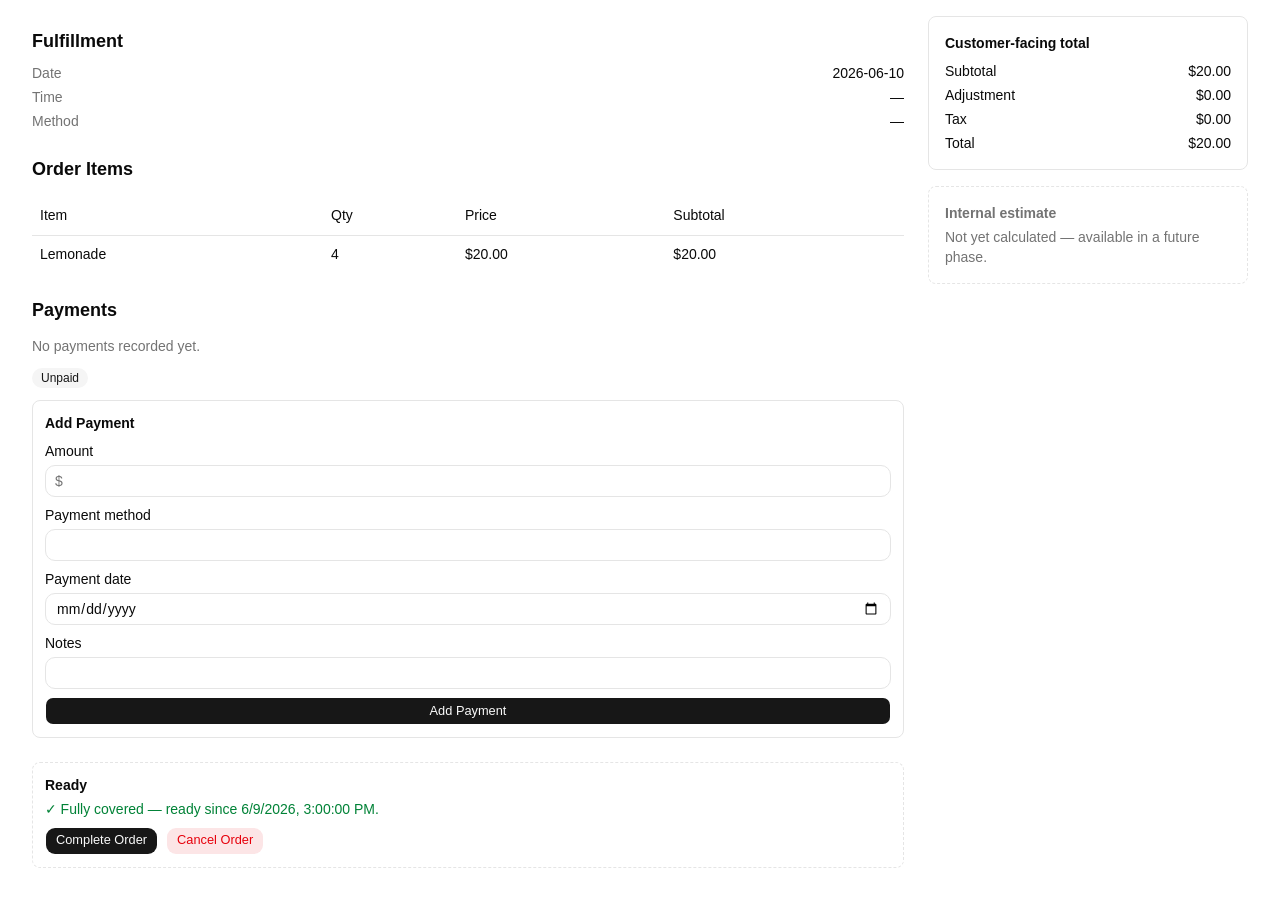
Scenario: Order Details — Complete Order › shows other structured rejections (production locked) as a readable alert
The image size is (1280, 900).
(page scrolled)
Step 1. Click the button "Complete Order" → [102, 840], box left=45, top=826, right=158, bottom=854
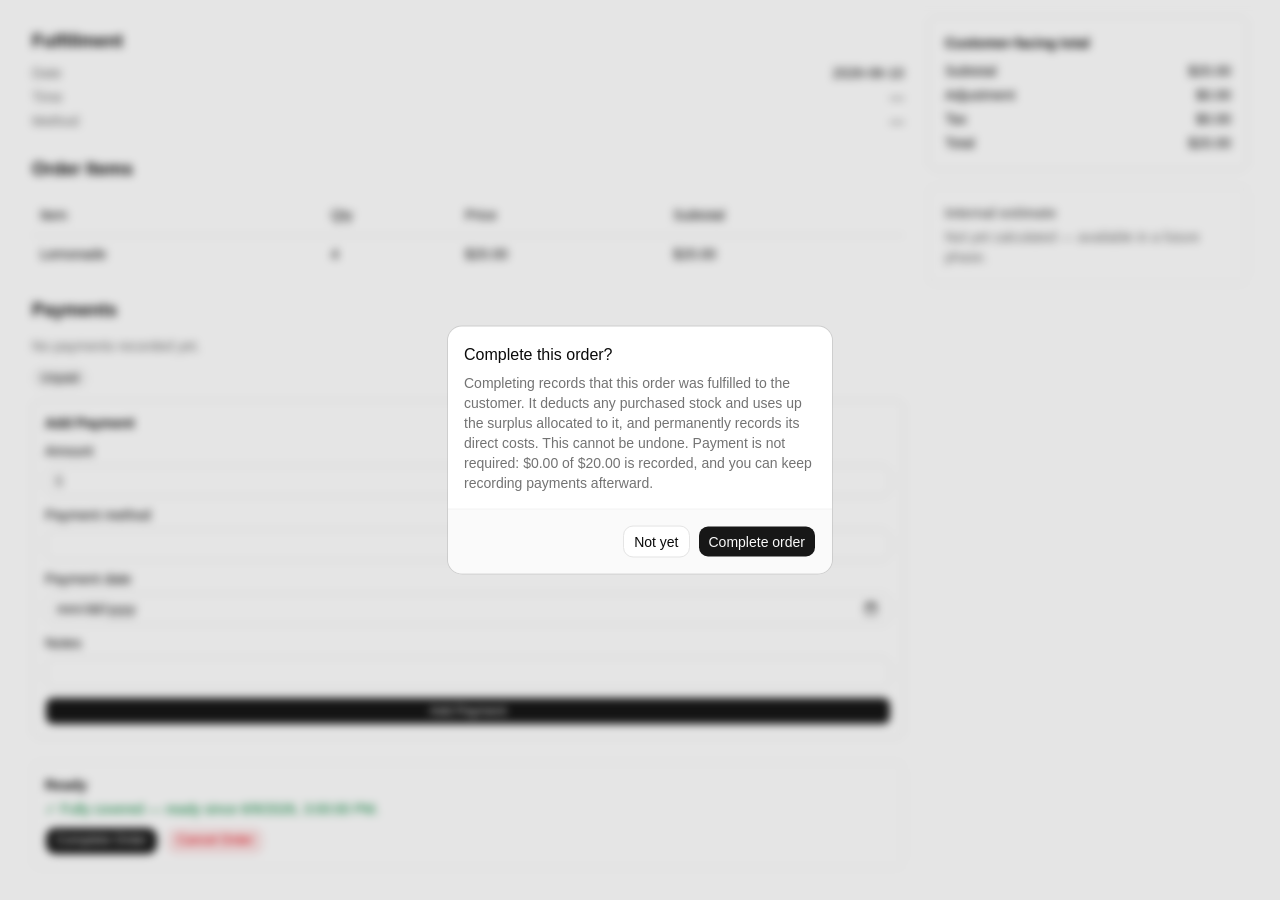
Step 2. Click the button "Complete order" → [757, 542], box left=698, top=526, right=816, bottom=558
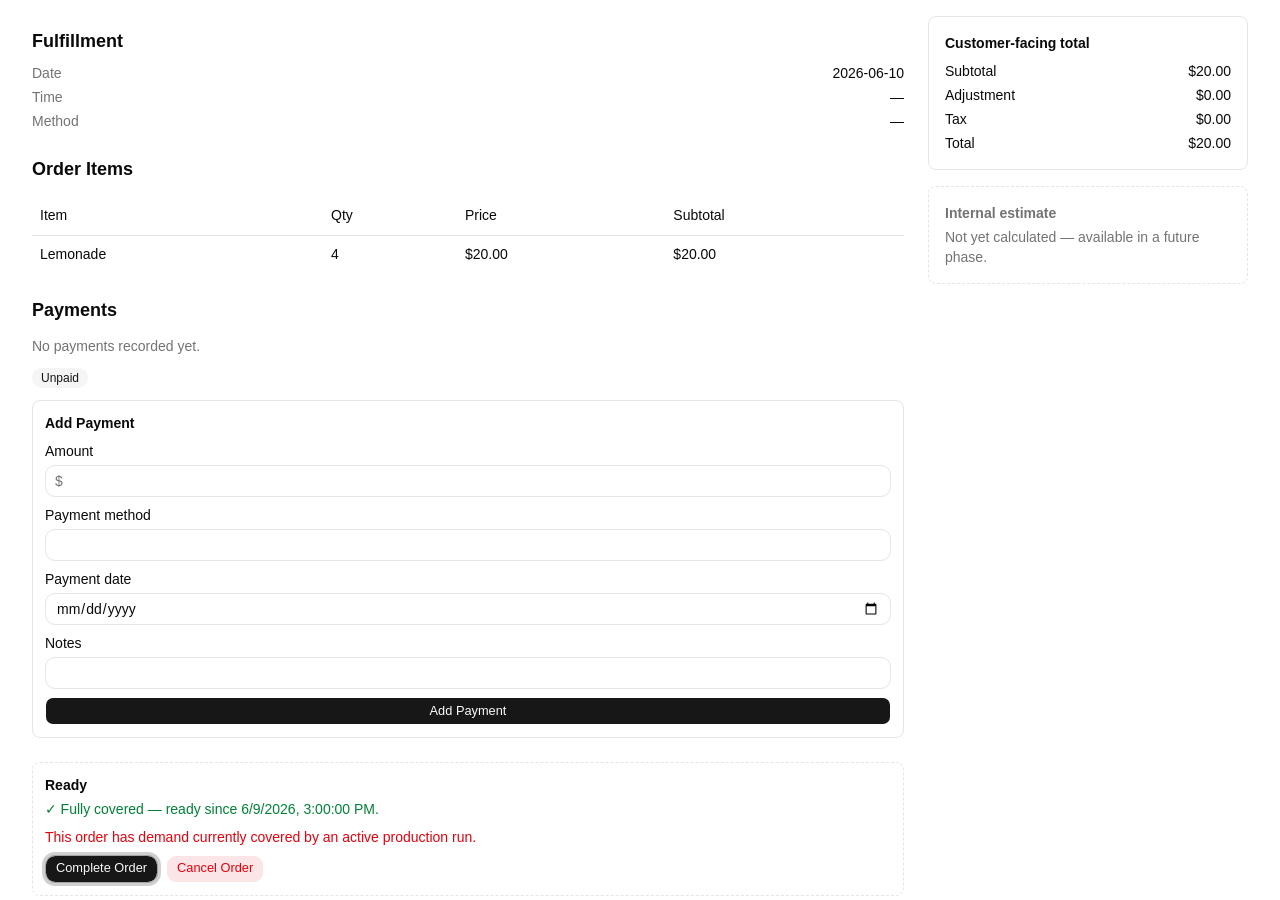
Result: the text "This order has demand currently covered by an active production run." is shown at left=45, top=828, right=476, bottom=844
